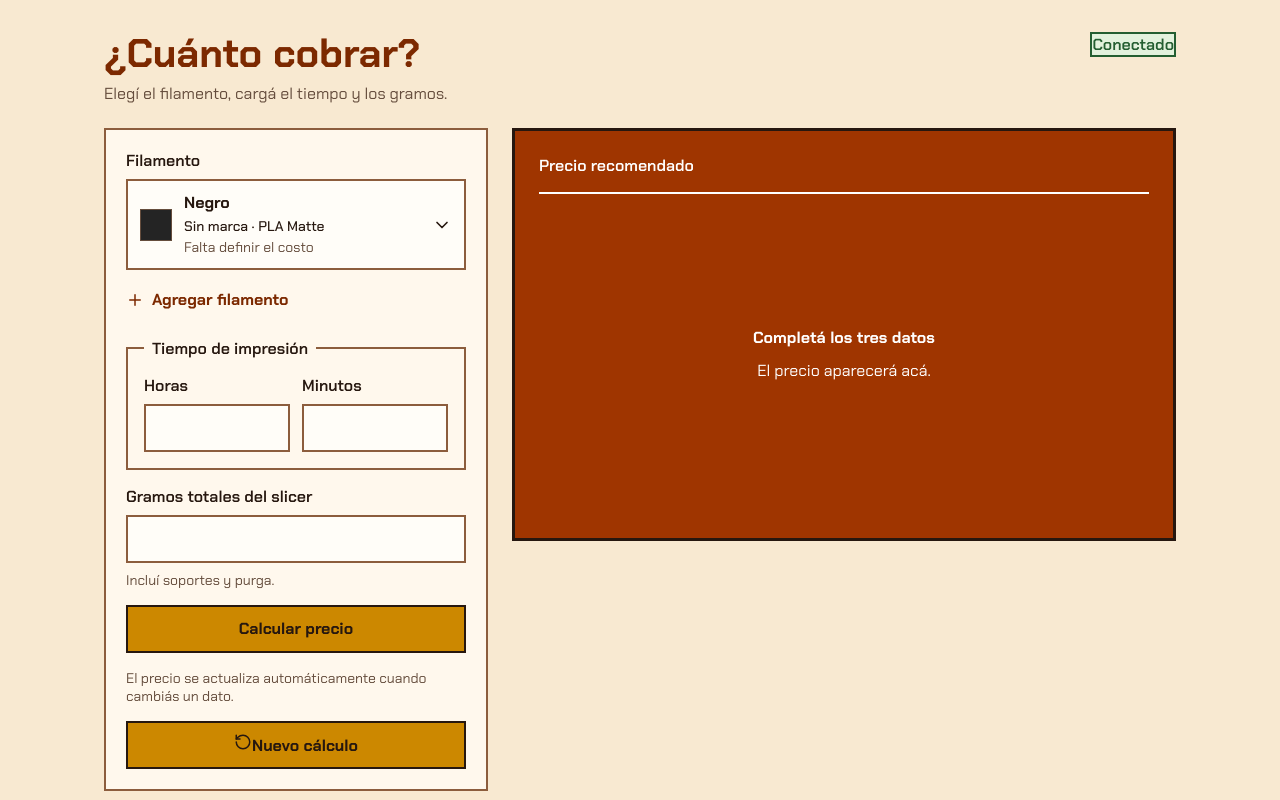
estados de la cotización rápida › separa copiar del flujo visual para cliente y no comparte antes de confirmar
Expected: the button with aria-label "Filamento" shows "PLA Matte", [126,179,466,270]
Type "5" into the number field named "Horas de impresión" at x=217, y=428, box [144,404,290,452]
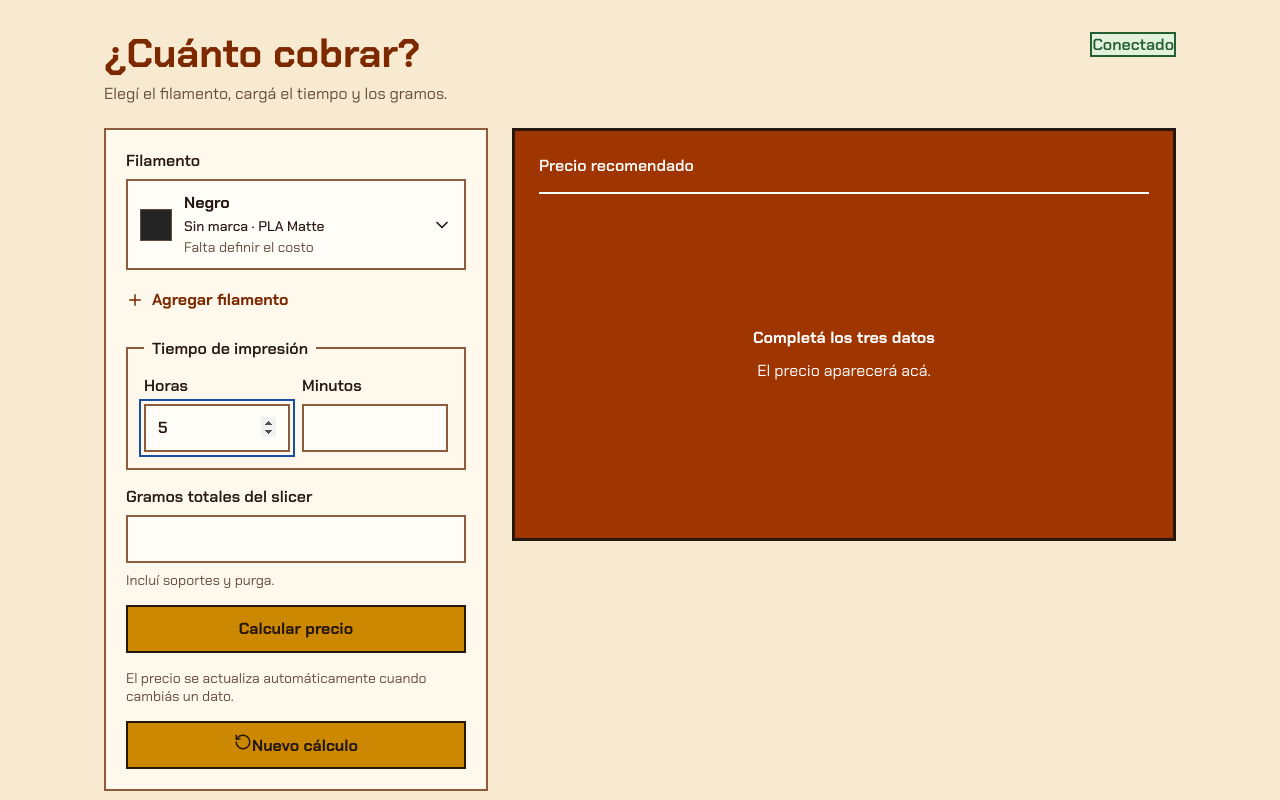
Type "24" into the number field named "Minutos de impresión" at x=375, y=428, box [302,404,448,452]
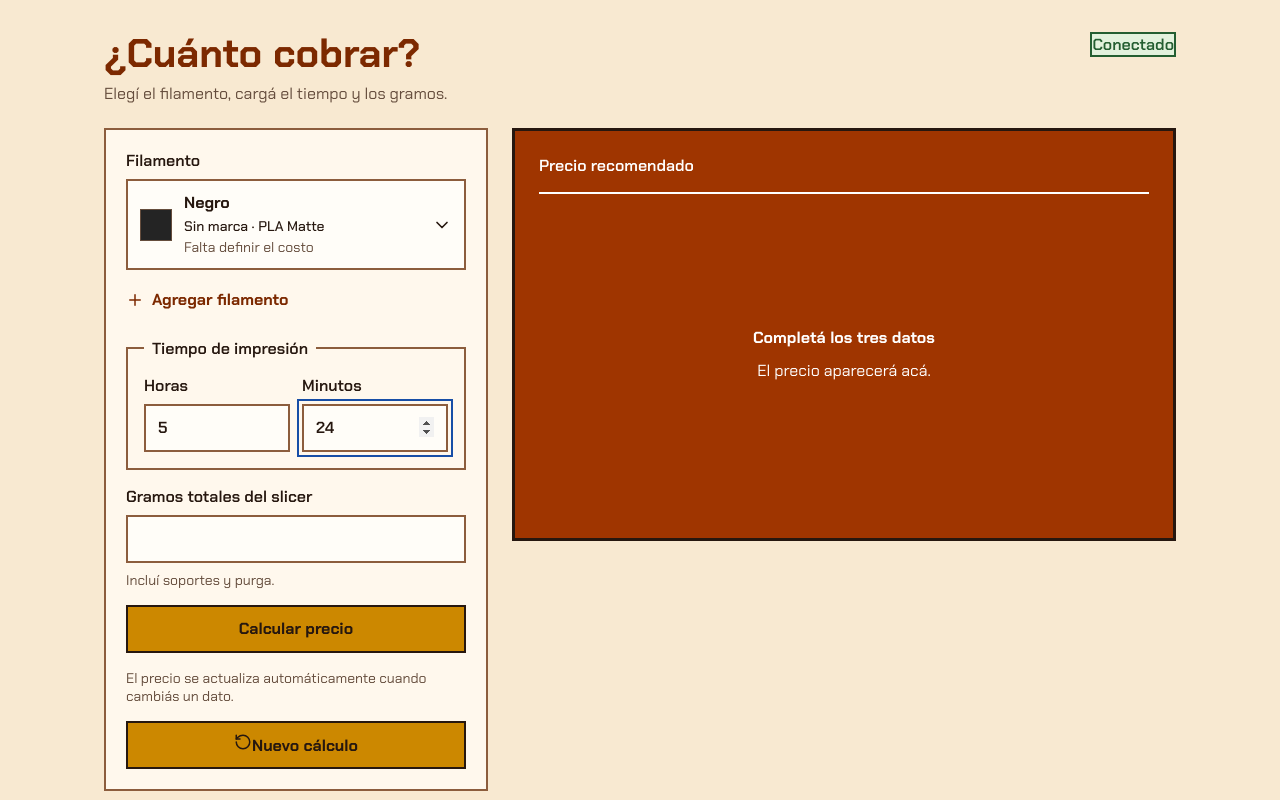
Type "142" into the number field labelled "Gramos totales del slicer" at x=296, y=539, box [126,515,466,563]
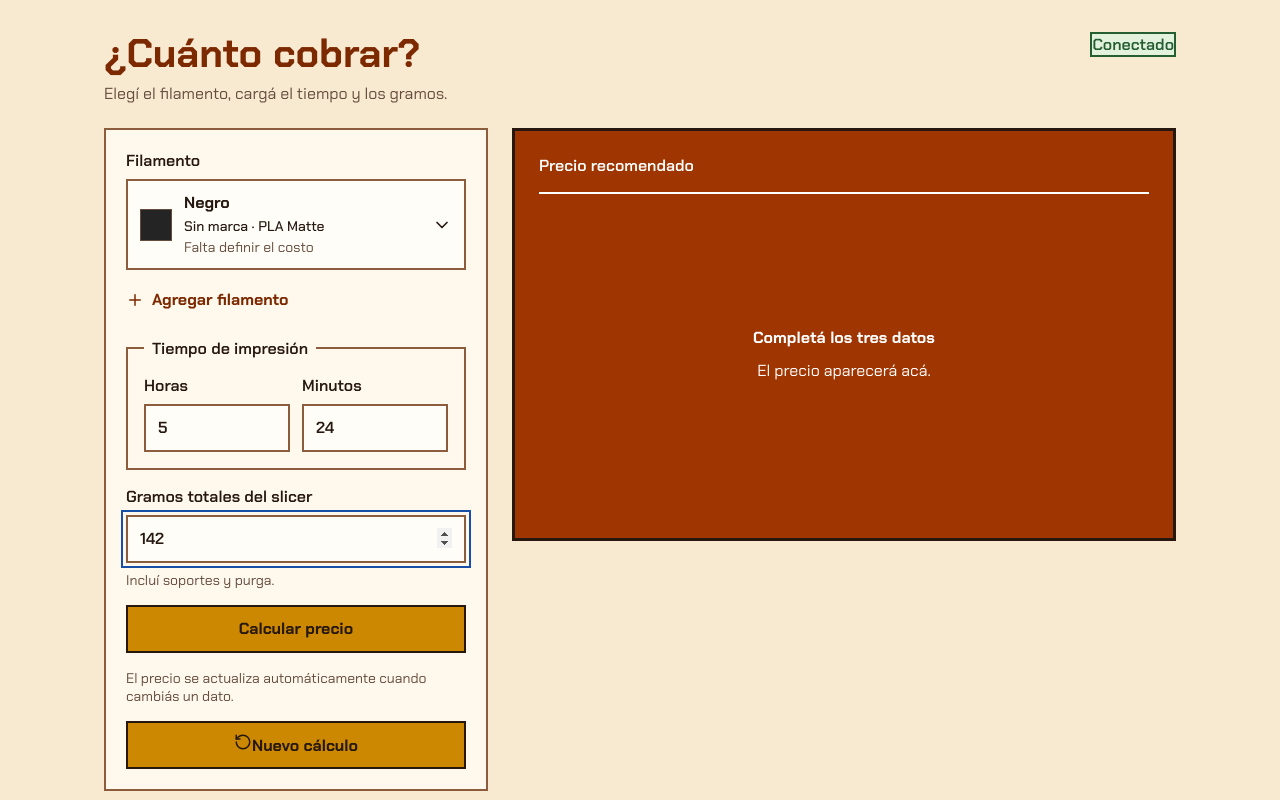
Click the button "Calcular precio" at x=296, y=629, box [126,605,466,653]
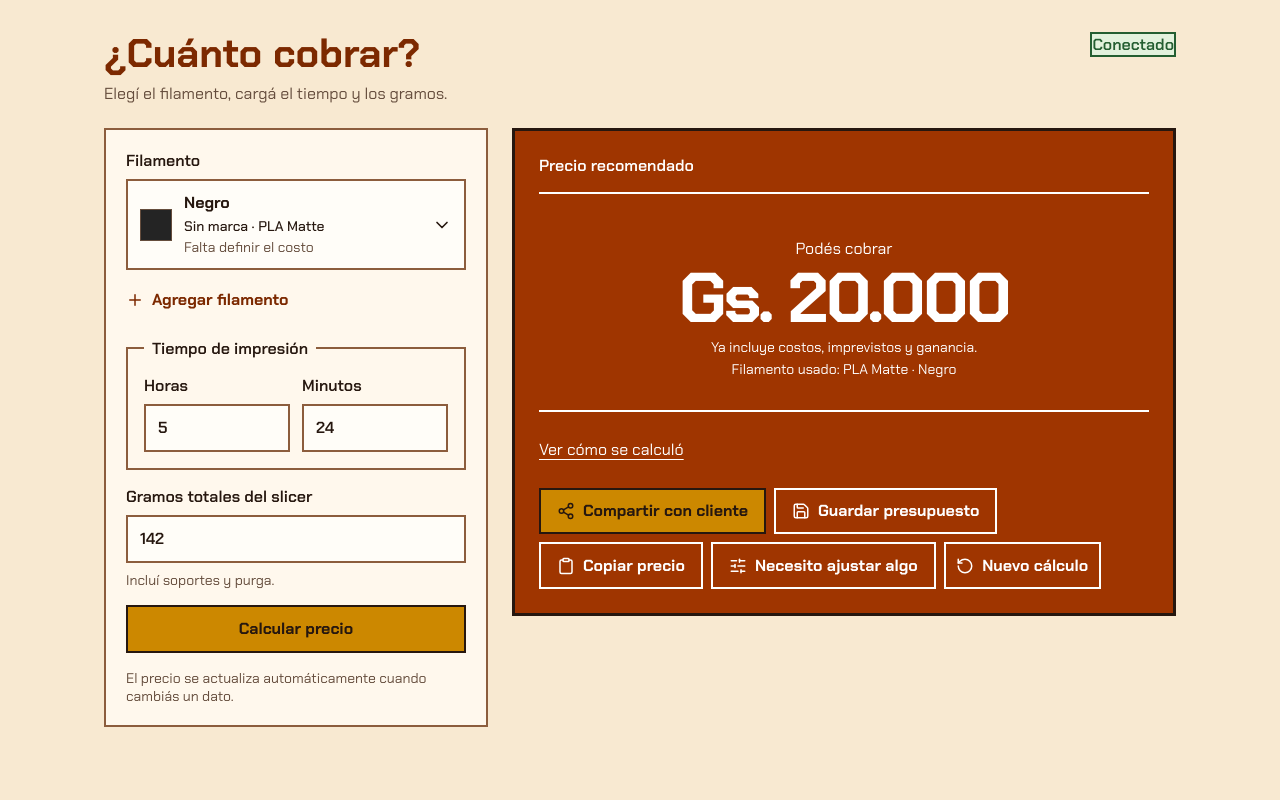
Expected: the text "Podés cobrar" is shown, [796,238,892,259]
Click the button "Copiar precio" at x=621, y=566, box [539,542,703,589]
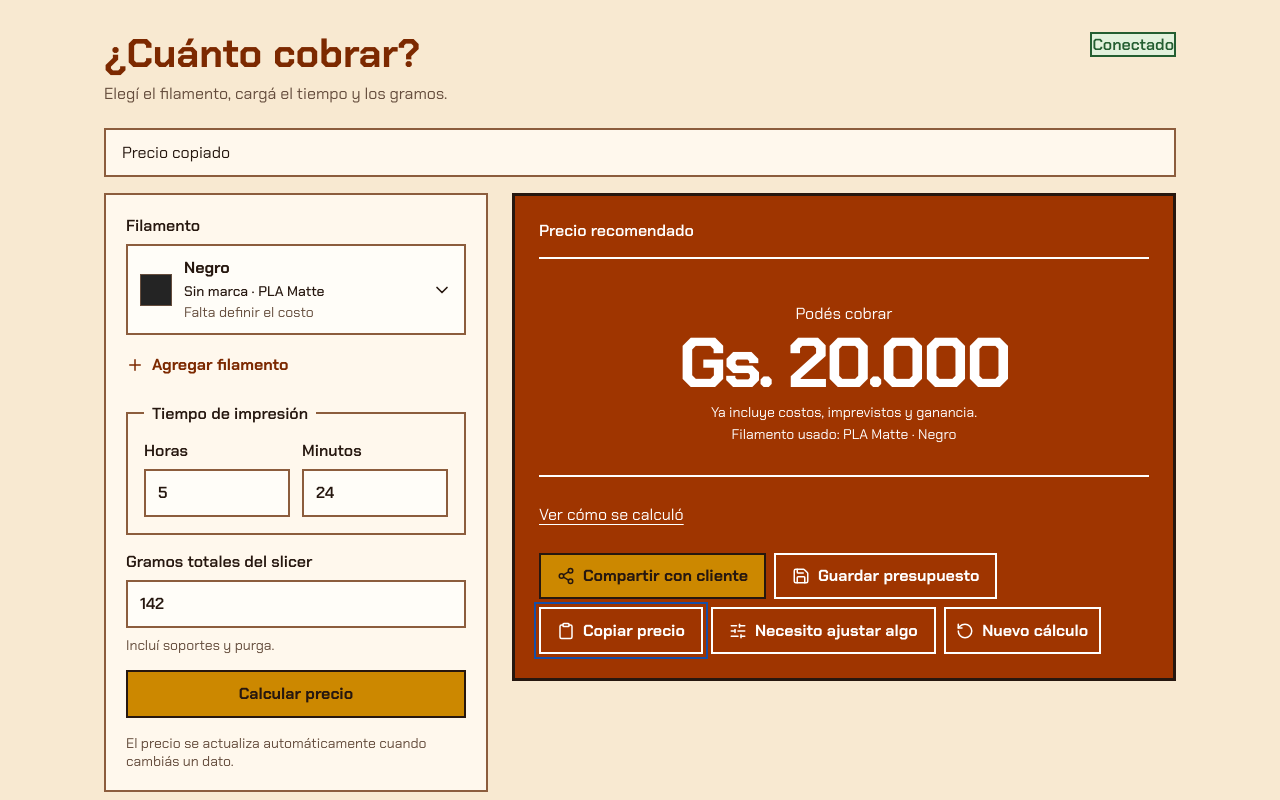
Click the button "Compartir con cliente" at x=652, y=576, box [539,553,766,599]
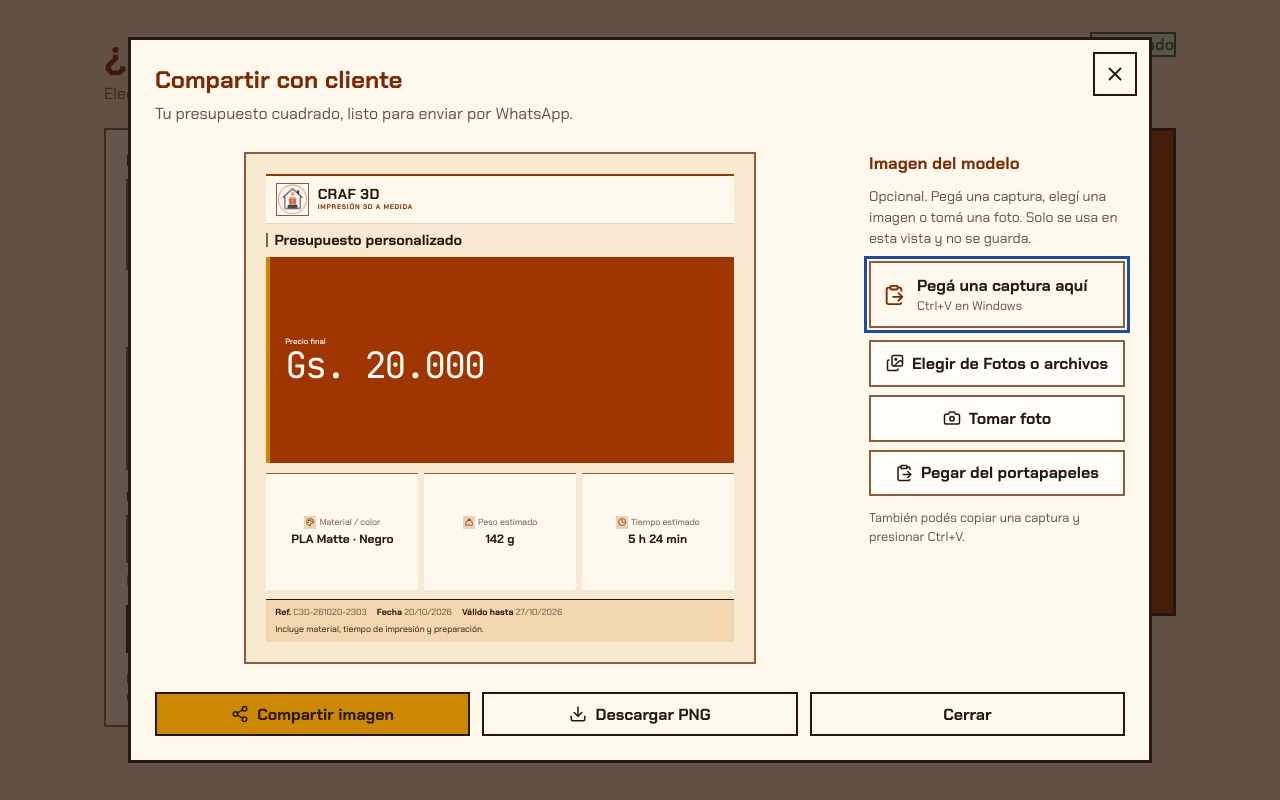
Expected: the dialog "Compartir con cliente" is shown
